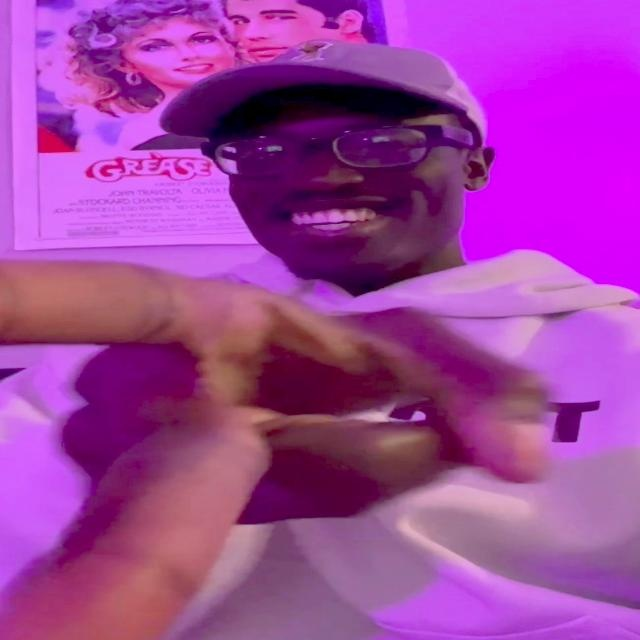Scissors: (0, 256, 570, 640)
